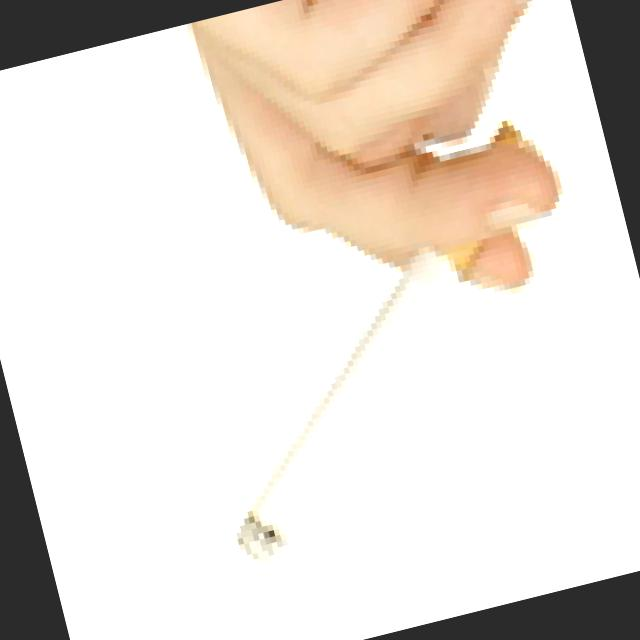smoke: (134, 107, 632, 596)
